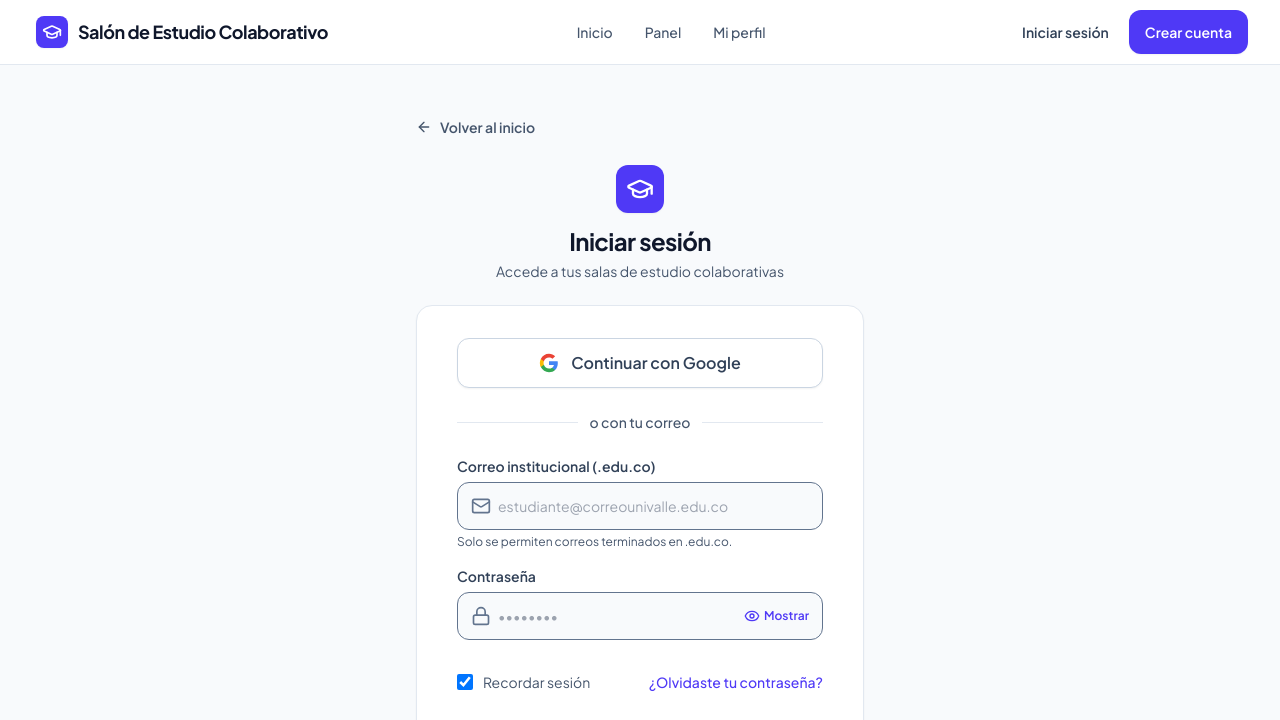
Login del prototipo › «¿Olvidaste tu contraseña?» pide el correo y luego envía las instrucciones
The width and height of the screenshot is (1280, 720).
Step 1. Click the button "¿Olvidaste tu contraseña?" → [736, 682], box [649,660,823,704]
(page scrolled)
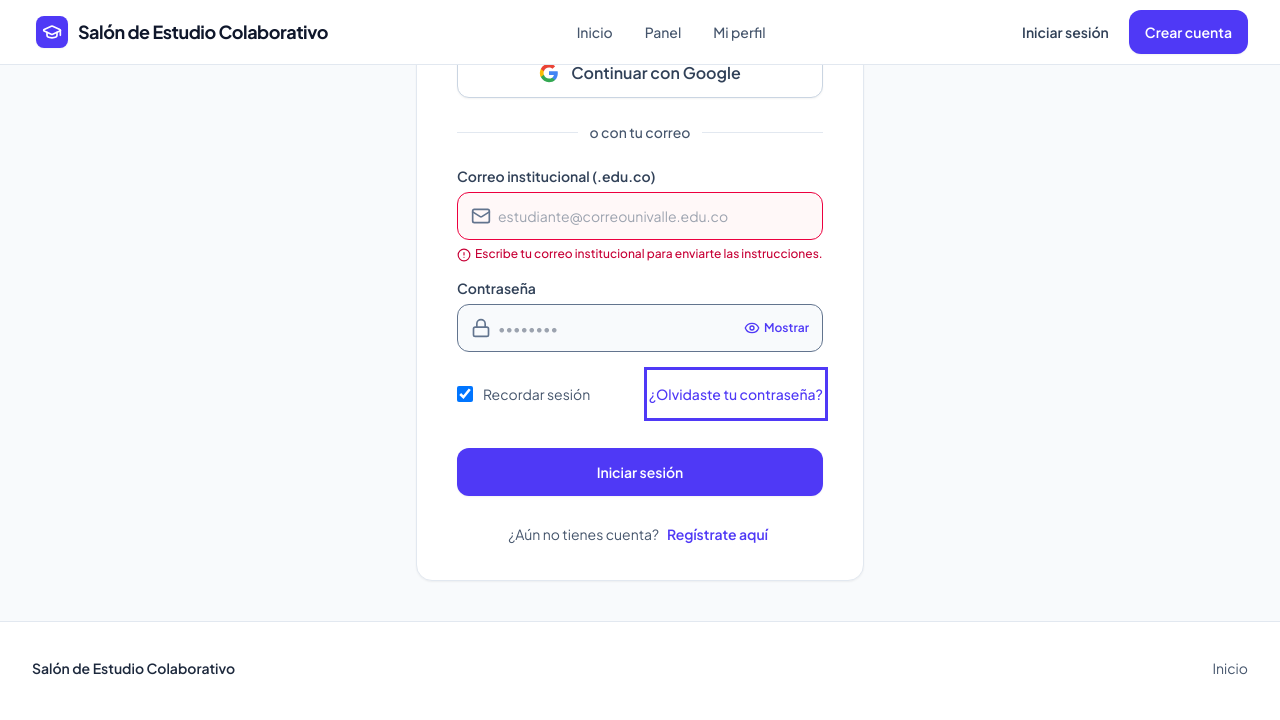
Step 2. Type "Ana@Correounivalle.edu.co" into the field labelled "Correo institucional (.edu.co)" → [640, 216], box [457,192,823,240]
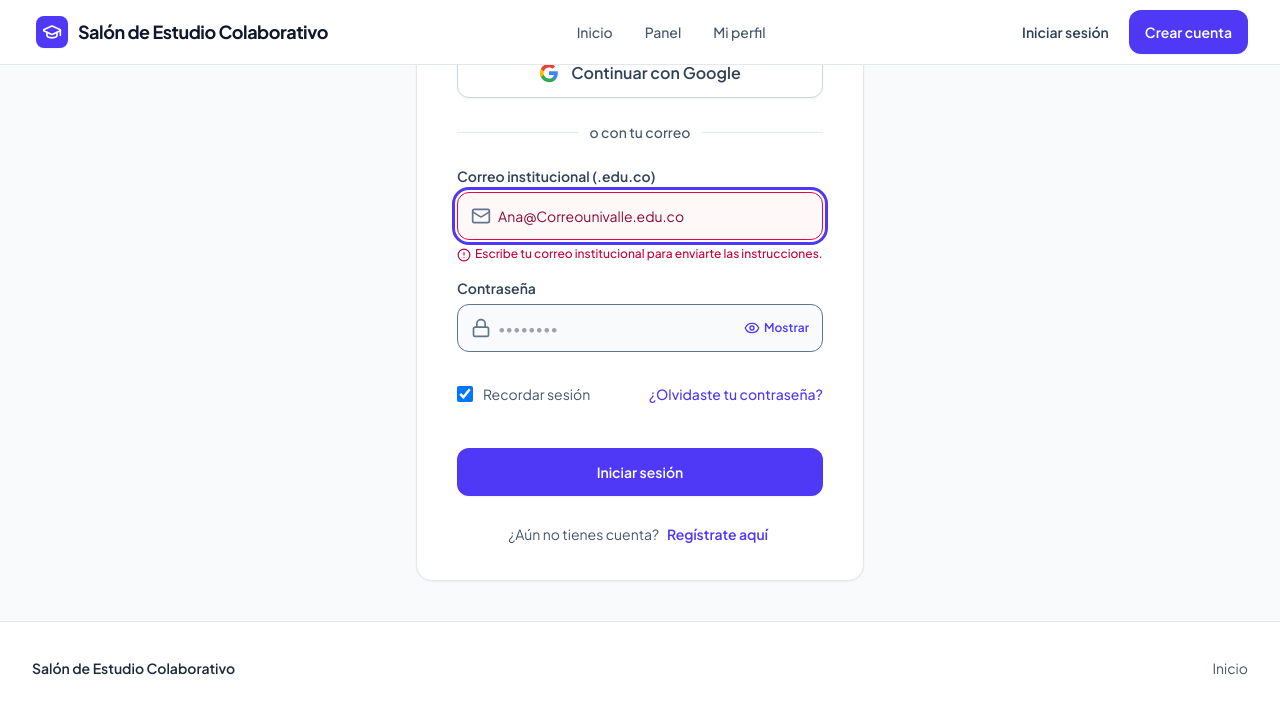
Step 3. Click the button "¿Olvidaste tu contraseña?" → [736, 394], box [649,372,823,416]
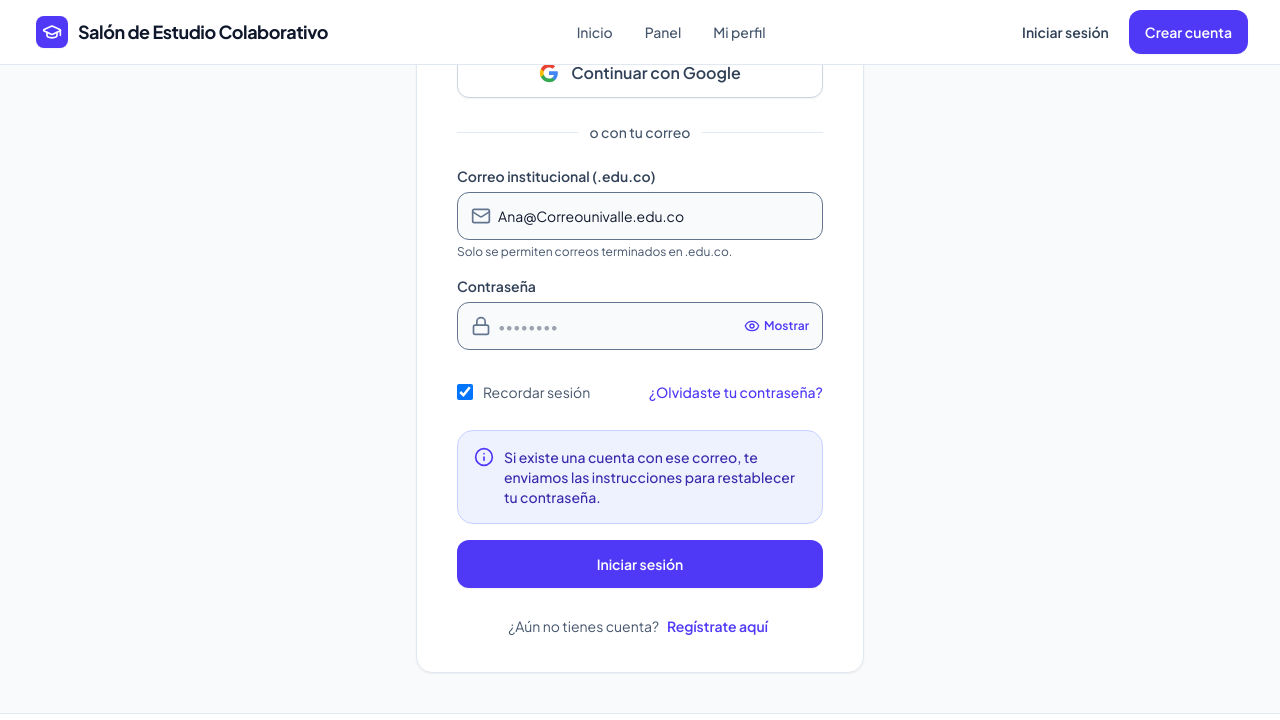
Check: the text "te enviamos las instrucciones" is shown, box [504,448,795,506]
